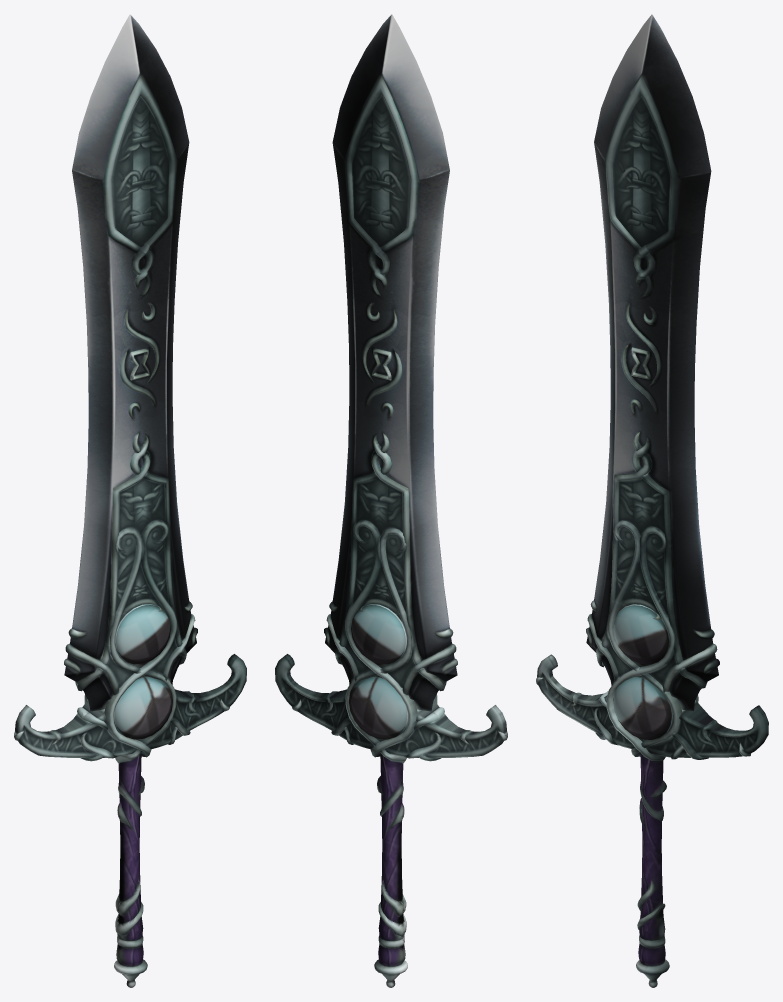
Rendered from sm_sword_138.gltf.
The picture shows the model from 3 angles, left to right: view 1: azimuth 30°, elevation 25°; view 2: azimuth 150°, elevation 25°; view 3: azimuth 330°, elevation 25°; orthographic projection.
Parts seen in each view (by area): view 1: SM_Sword_138; view 2: SM_Sword_138; view 3: SM_Sword_138.
Part boxes in pixels (x1=…): SM_Sword_138: x1=14, y1=14, x2=246, y2=987; SM_Sword_138: x1=275, y1=14, x2=507, y2=987; SM_Sword_138: x1=536, y1=14, x2=768, y2=987.
Size of the model in its own units: 0.3727 by 1.5 by 0.0936.
1 material, 1 textured.
